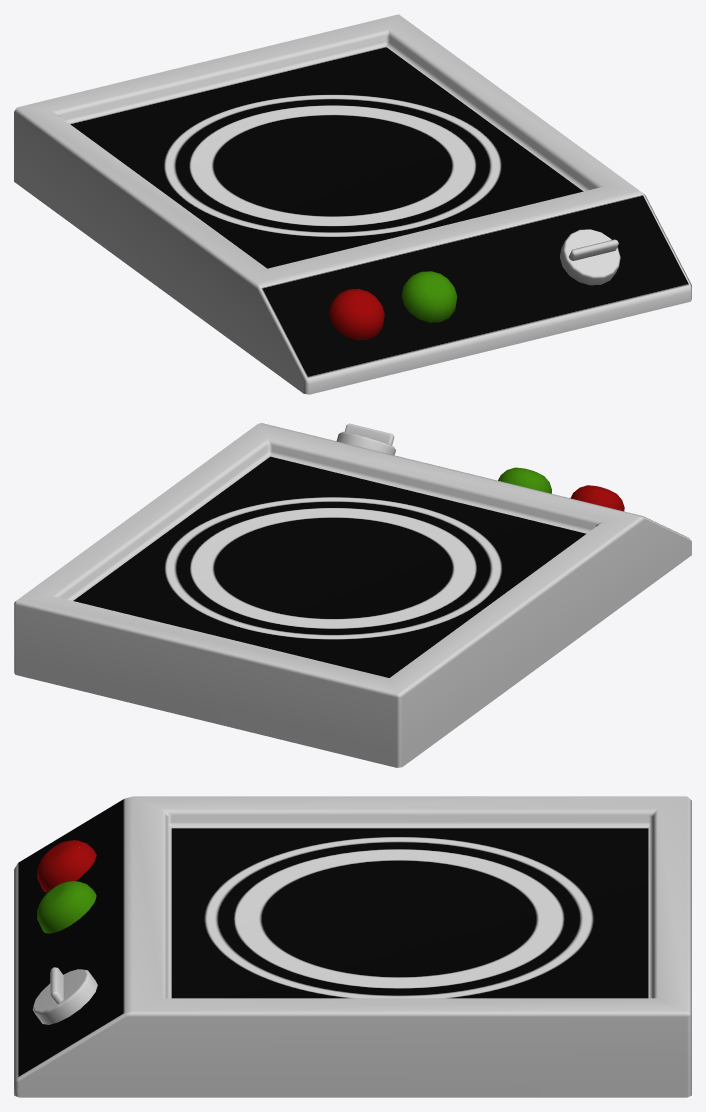
File: StoveCounter.fbx
3 views of the same model, one above another, from view 1: azimuth 30°, elevation 25°; view 2: azimuth 150°, elevation 25°; view 3: azimuth 270°, elevation 25° (orthographic). The views are drawn at different scales.
Visible parts, largest first — view 1: Cube.004; view 2: Cube.004; view 3: Cube.004.
Part boxes in pixels (box(x1,y1,x2,y2)): Cube.004: box(14, 14, 691, 394); Cube.004: box(14, 423, 691, 767); Cube.004: box(14, 796, 691, 1097).
Size of the model in its own units: 55.1 by 9.98 by 72.3.
